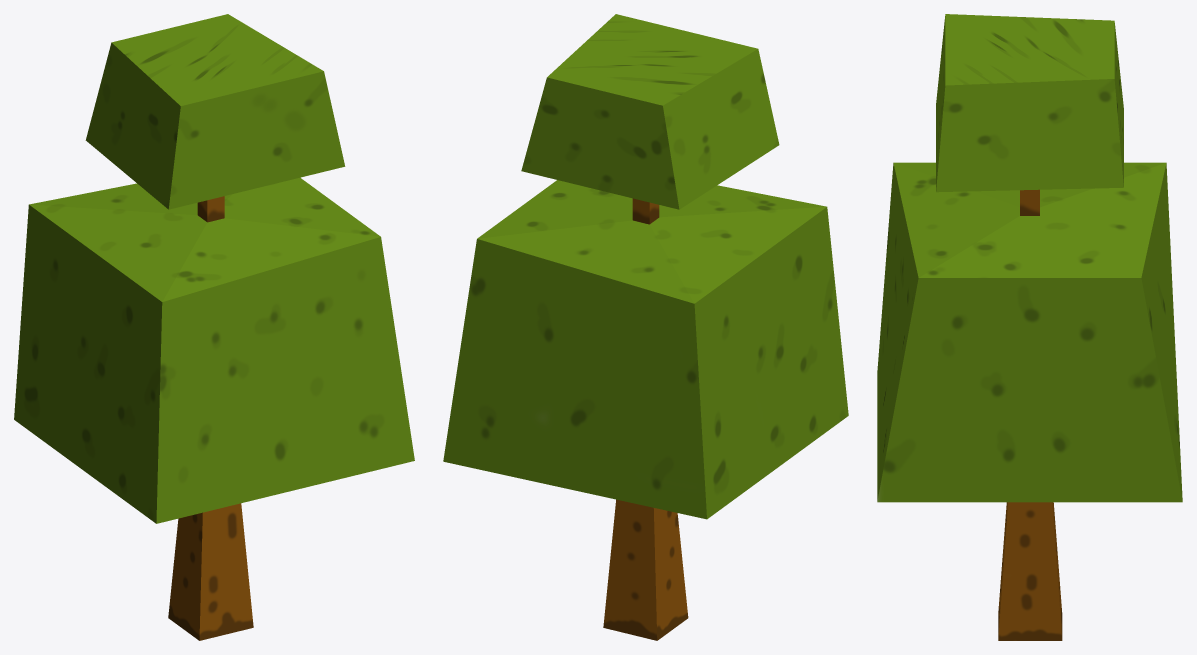
File: tree-md.fbx
3 views of the same model, side by side, from view 1: azimuth 30°, elevation 25°; view 2: azimuth 150°, elevation 25°; view 3: azimuth 270°, elevation 25° (orthographic). The views are drawn at different scales.
Visible parts, largest first — view 1: Cube; view 2: Cube; view 3: Cube.
Boxes of the visible parts, x1=… form: Cube: x1=14, y1=14, x2=414, y2=640; Cube: x1=443, y1=14, x2=848, y2=640; Cube: x1=877, y1=14, x2=1182, y2=640.
Bounding box in the file's own units: 93.03 × 194 × 93.03.
